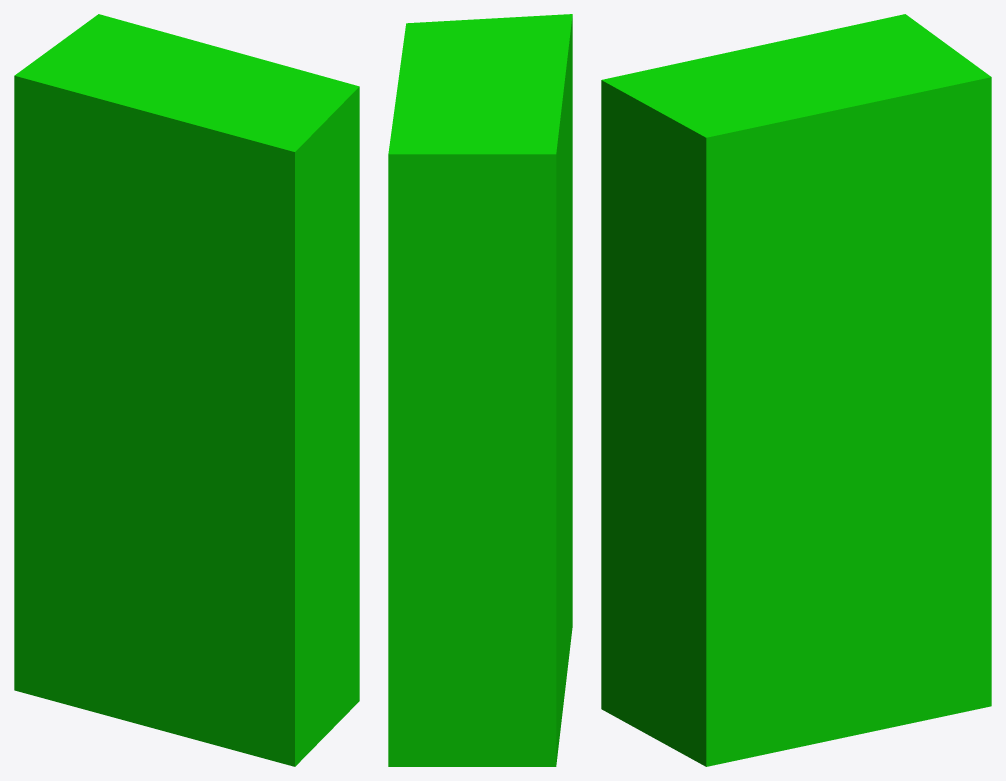
3 renders of one model, left to right at view 1: azimuth 30°, elevation 25°; view 2: azimuth 150°, elevation 25°; view 3: azimuth 270°, elevation 25°, orthographic. The views are drawn at different scales.
Parts seen in each view (by area): view 1: Circle.042; view 2: Circle.042; view 3: Circle.042.
Part boxes in pixels (x1,y1,x2,y2): Circle.042: (14, 14, 359, 766); Circle.042: (388, 14, 572, 766); Circle.042: (601, 14, 991, 766).
Size of the model in its own units: 863 by 2044 by 1150.
